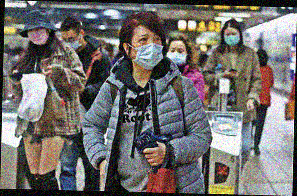with_mask: (132, 31, 166, 71), (26, 25, 50, 46), (165, 45, 188, 66), (223, 29, 243, 48), (59, 36, 82, 52)
